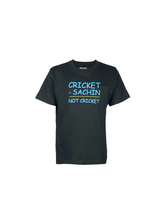clothoes: (30, 57, 130, 166)
